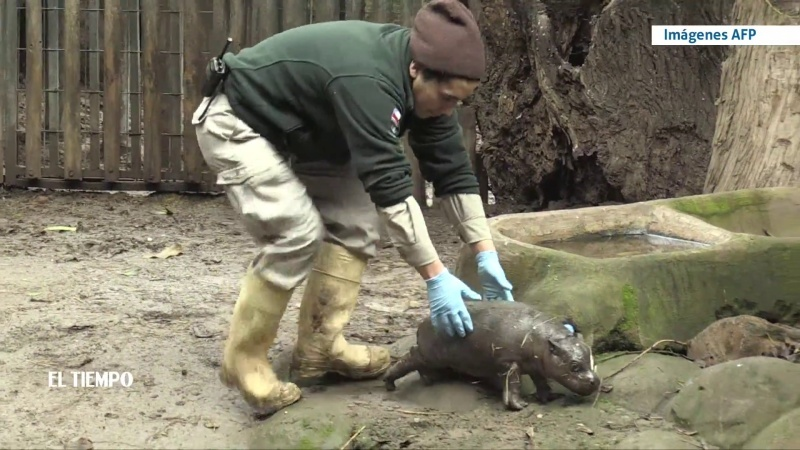hipopotamo: (367, 295, 620, 436)
